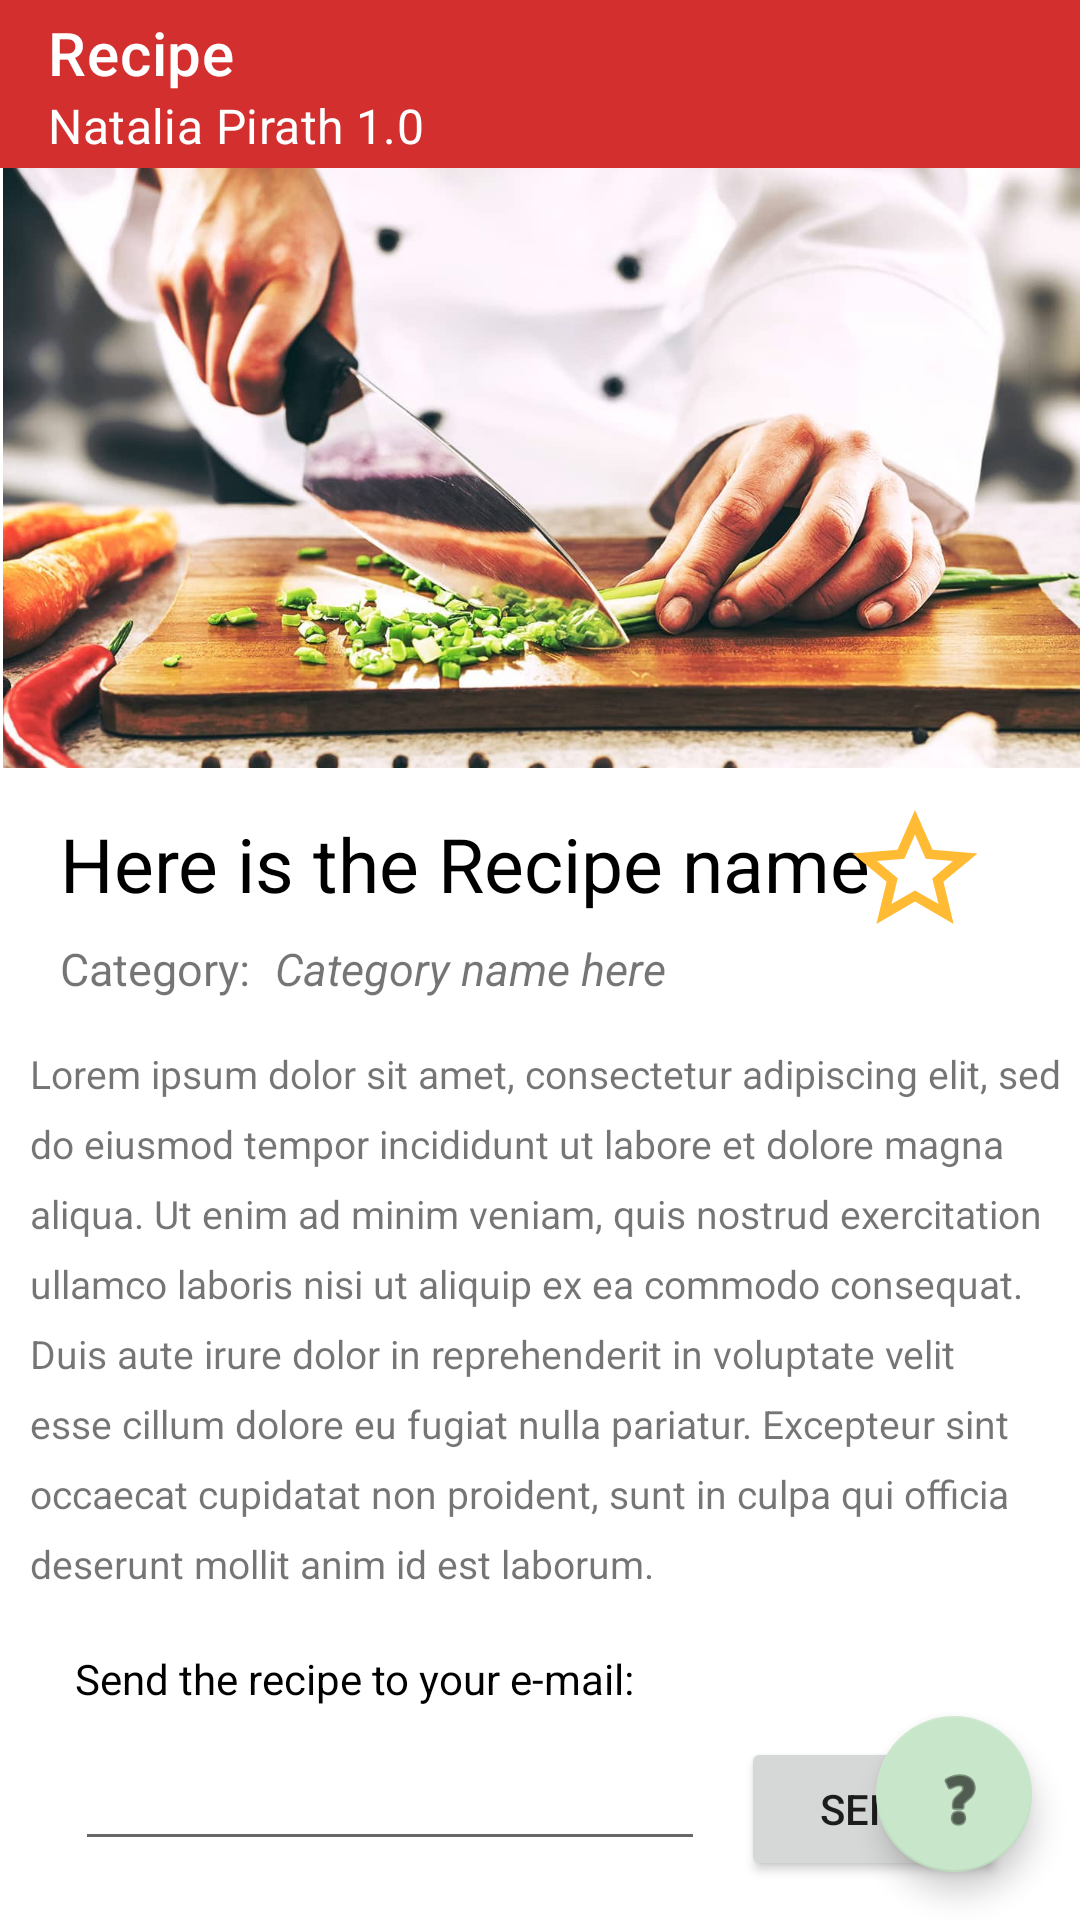

Screen size 1080 × 1920. Icon name, then its box in pixels as (x1, y1, x2, y2):
help: (876, 1716, 1032, 1872)
